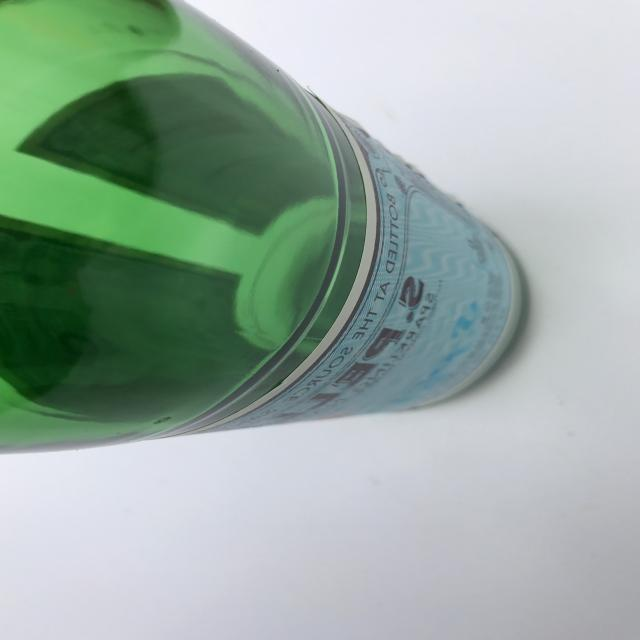glass: (0, 0, 527, 455)
